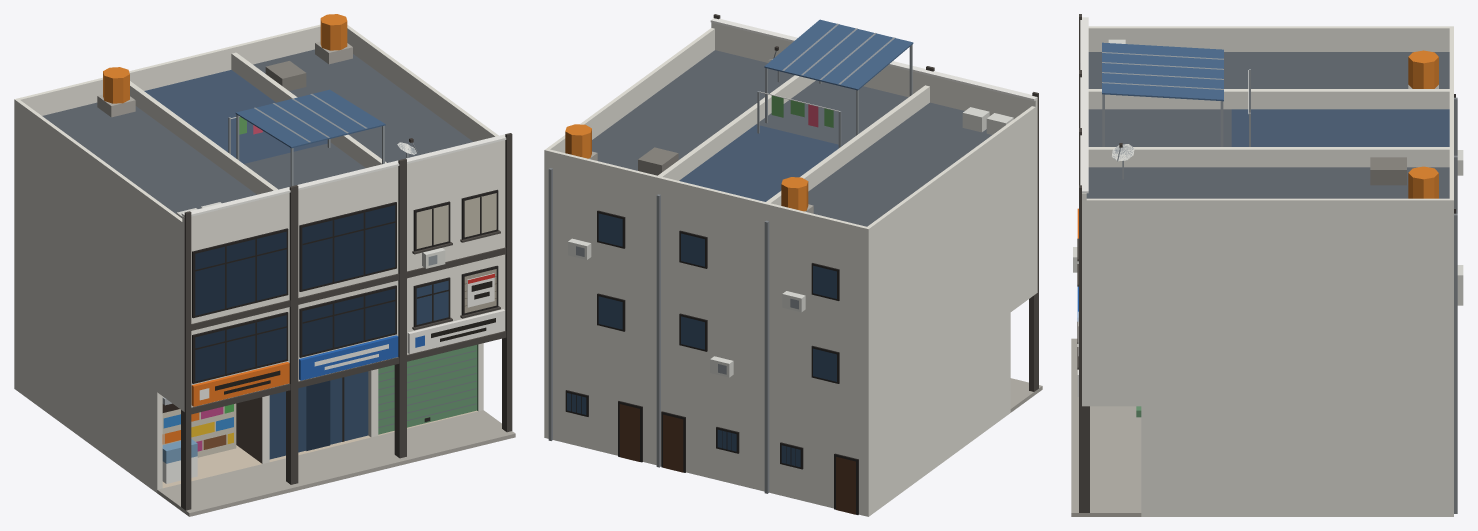
File: ruko_02.glb
3 views of the same model, side by side, from view 1: azimuth 30°, elevation 25°; view 2: azimuth 150°, elevation 25°; view 3: azimuth 270°, elevation 25° (orthographic). The views are drawn at different scales.
Visible parts, largest first — view 1: ruko_02; view 2: ruko_02; view 3: ruko_02.
Boxes of the visible parts, box(x1,y1,x2,y2) form: ruko_02: box(14, 14, 515, 516); ruko_02: box(544, 14, 1042, 516); ruko_02: box(1071, 14, 1463, 516).
Size of the model in its own units: 13.5 by 13.11 by 12.86.
